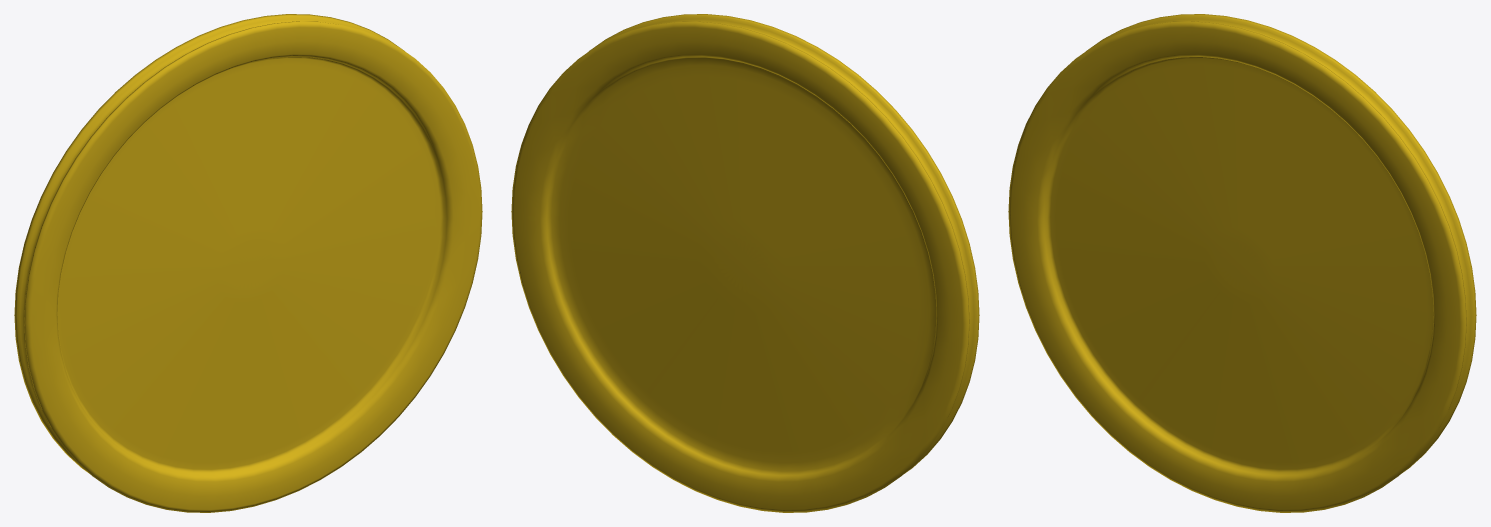
The model's file is Coin.fbx.
3 views of the same model, side by side, from view 1: azimuth 30°, elevation 25°; view 2: azimuth 150°, elevation 25°; view 3: azimuth 330°, elevation 25° (orthographic).
Parts seen in each view (by area): view 1: Coin; view 2: Coin; view 3: Coin.
Part boxes in pixels (<box>): Coin: <box>14,14,482,512</box>; Coin: <box>511,14,979,512</box>; Coin: <box>1008,14,1476,512</box>.
Size of the model in its own units: 147 by 147 by 8.2.
